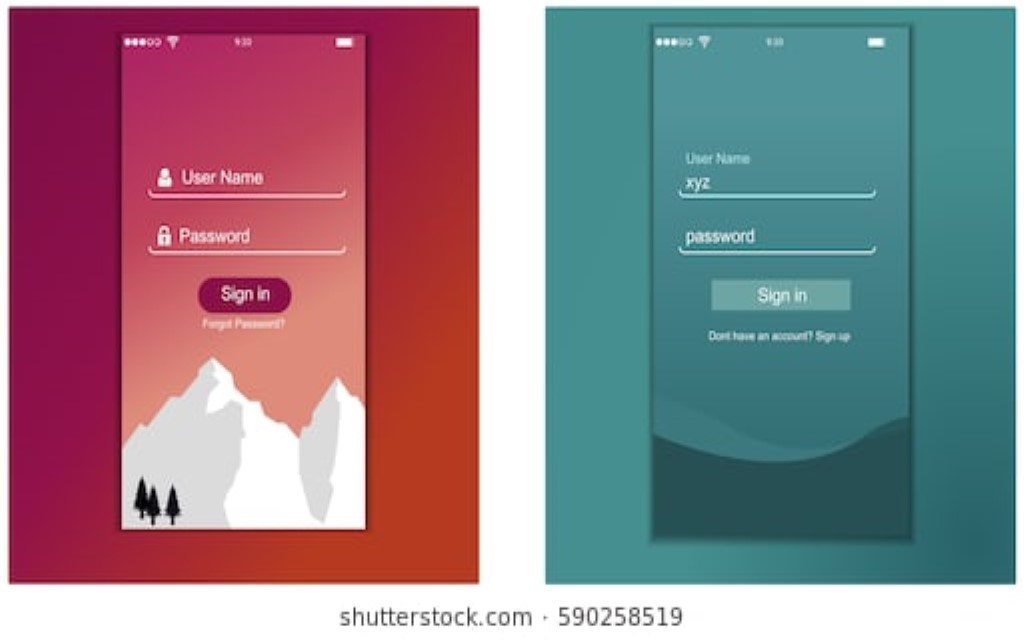button: (199, 278, 292, 313)
button_SignIn: (199, 275, 291, 316)
label_SignIn: (218, 283, 272, 306)
label_Username: (183, 168, 264, 188)
label_password: (179, 224, 254, 246)
textbox: (175, 164, 348, 197), (176, 221, 345, 252)
textbox_Password: (174, 219, 347, 253)
textbox_username: (174, 163, 351, 199)
